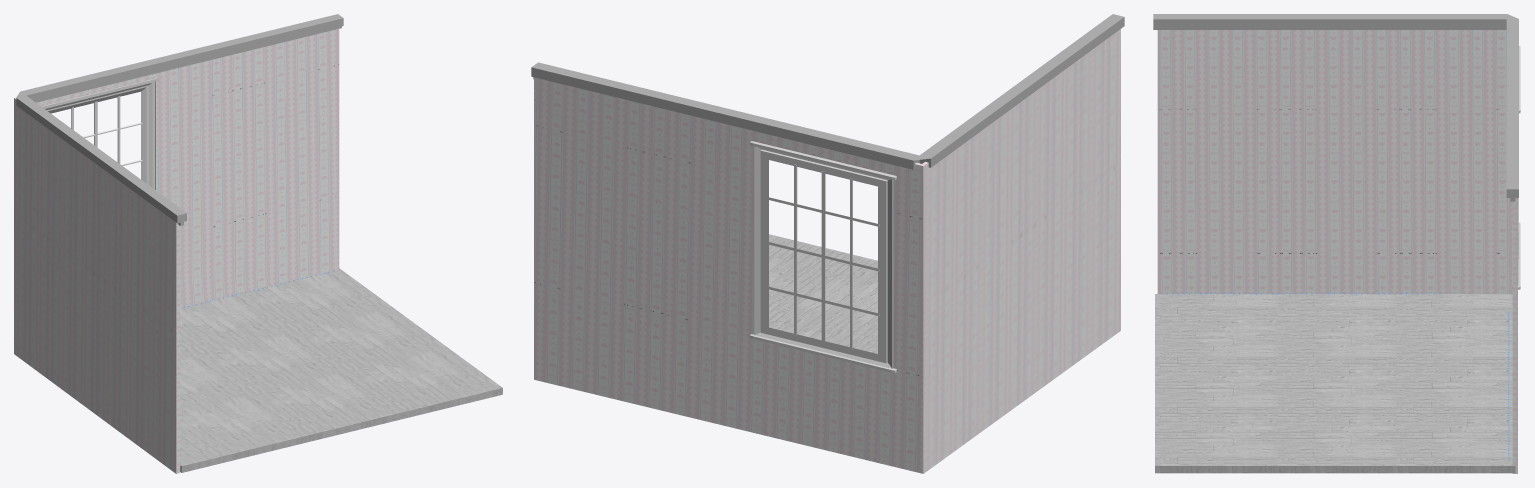
Rendered from wall-floor.glb.
3 views of the same model, side by side, from view 1: azimuth 30°, elevation 25°; view 2: azimuth 150°, elevation 25°; view 3: azimuth 270°, elevation 25° (orthographic). The views are drawn at different scales.
Parts seen in each view (by area): view 1: tatami.002_Baked; view 2: tatami.002_Baked; view 3: tatami.002_Baked.
Part boxes in pixels (x1,y1,x2,y2): tatami.002_Baked: [14, 14, 502, 473]; tatami.002_Baked: [531, 14, 1124, 473]; tatami.002_Baked: [1153, 14, 1520, 473].
Size of the model in its own units: 22.09 by 16.77 by 19.55.
1 material, 1 textured.
